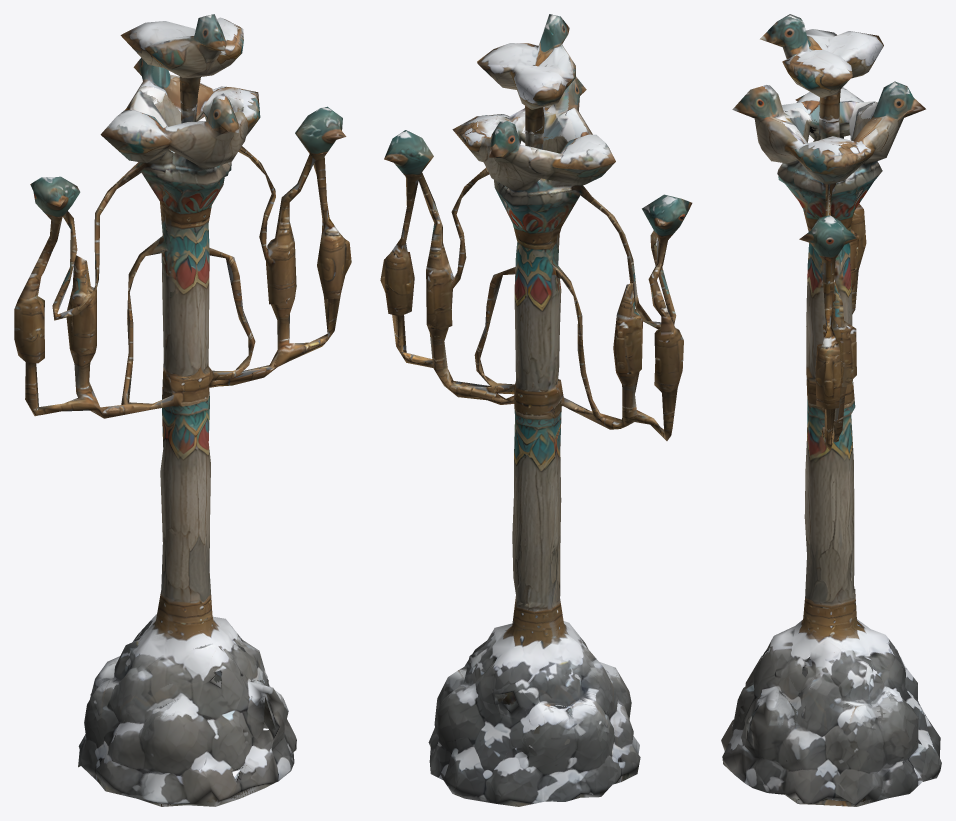
File: PR_Sotdae.fbx
3 views of the same model, side by side, from view 1: azimuth 30°, elevation 25°; view 2: azimuth 150°, elevation 25°; view 3: azimuth 270°, elevation 25° (orthographic). The views are drawn at different scales.
Visible parts, largest first — view 1: texture_mapping; view 2: texture_mapping; view 3: texture_mapping.
Part boxes in pixels (x1,y1,x2,y2): texture_mapping: [14, 14, 351, 806]; texture_mapping: [380, 14, 692, 806]; texture_mapping: [721, 14, 941, 806].
Bounding box in the file's own units: 0.4469 × 0.2686 × 1.
1 material, 1 textured.
